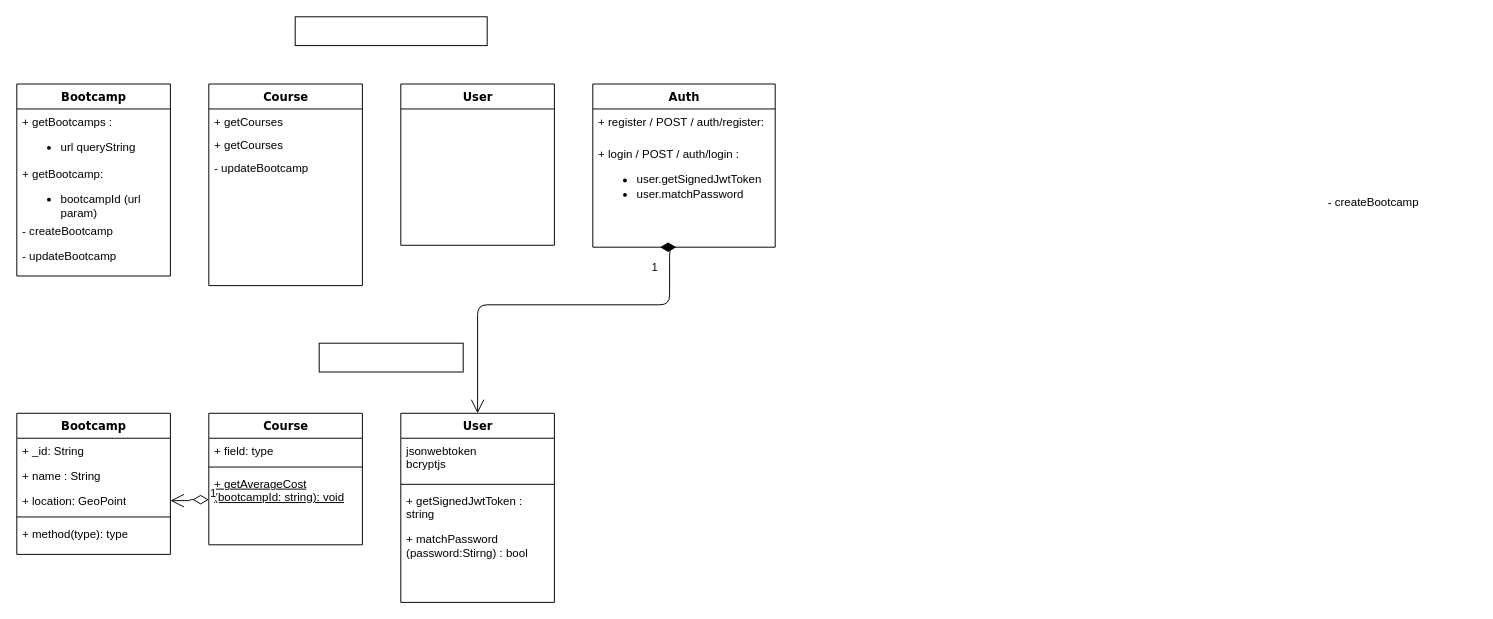
Some shapes in this 1493 by 619 pixel diagram are drawn without their labels. Each missing label, with the centre of its shape:
"Controllers" belongs at pixel 390 31.
"Models" belongs at pixel 390 357.
